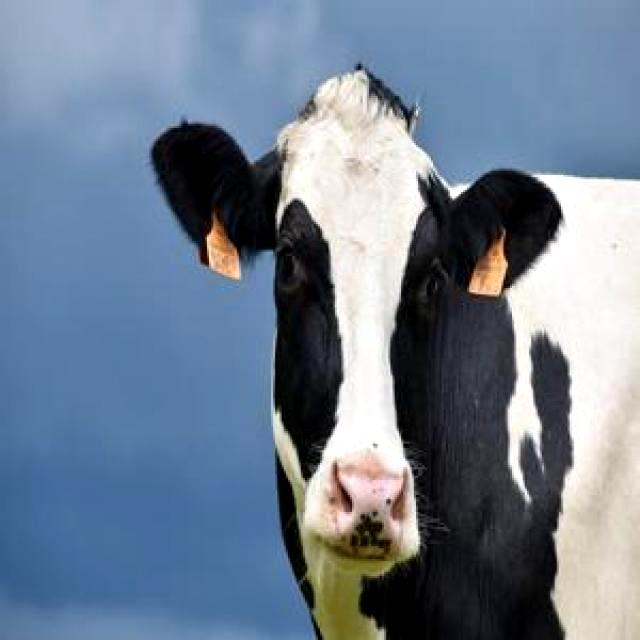COW: (152, 69, 640, 639)
